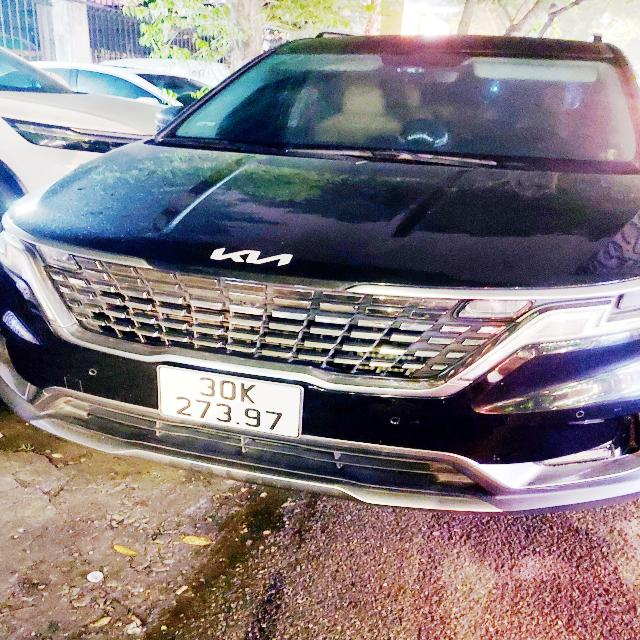license_plate: (155, 360, 310, 445)
